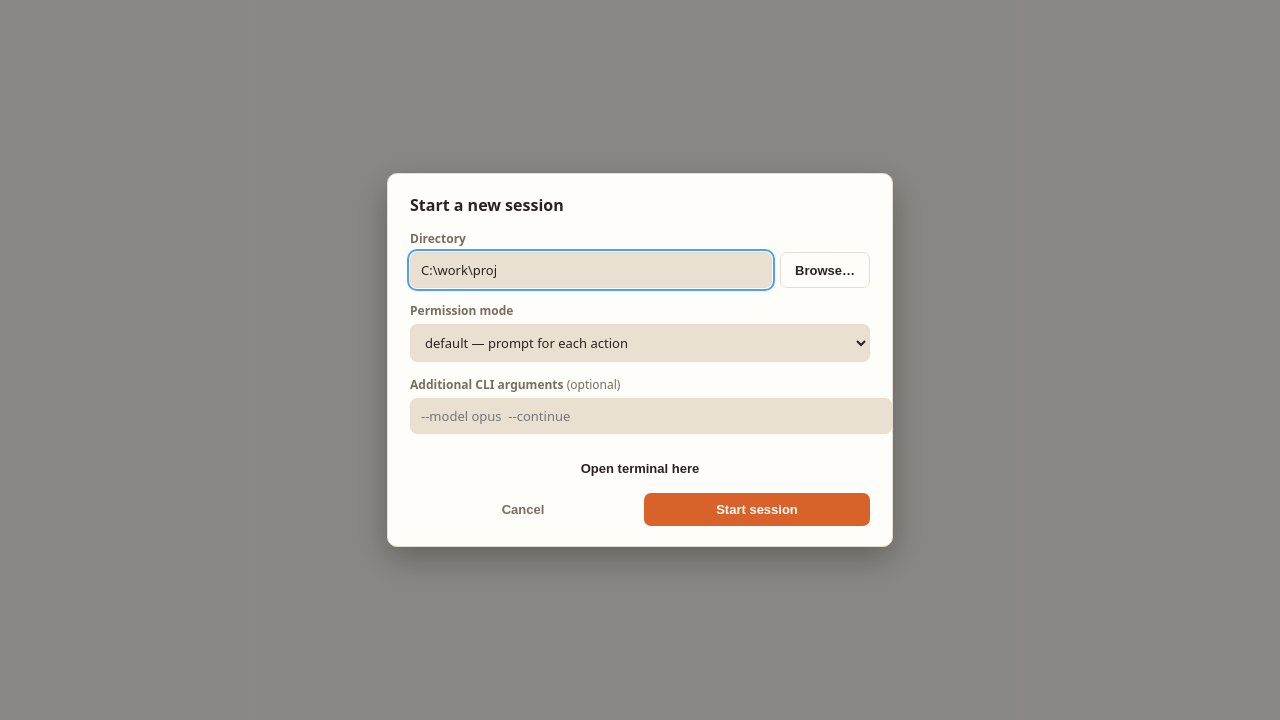
Test: NewSessionModal (#165) › shows the INVALID_ARGS detail inline and stays open
Step 1. Type "a&b" into the field labelled "Additional CLI arguments (optional)" → (651, 416), box top-left (410, 398), bottom-right (892, 434)
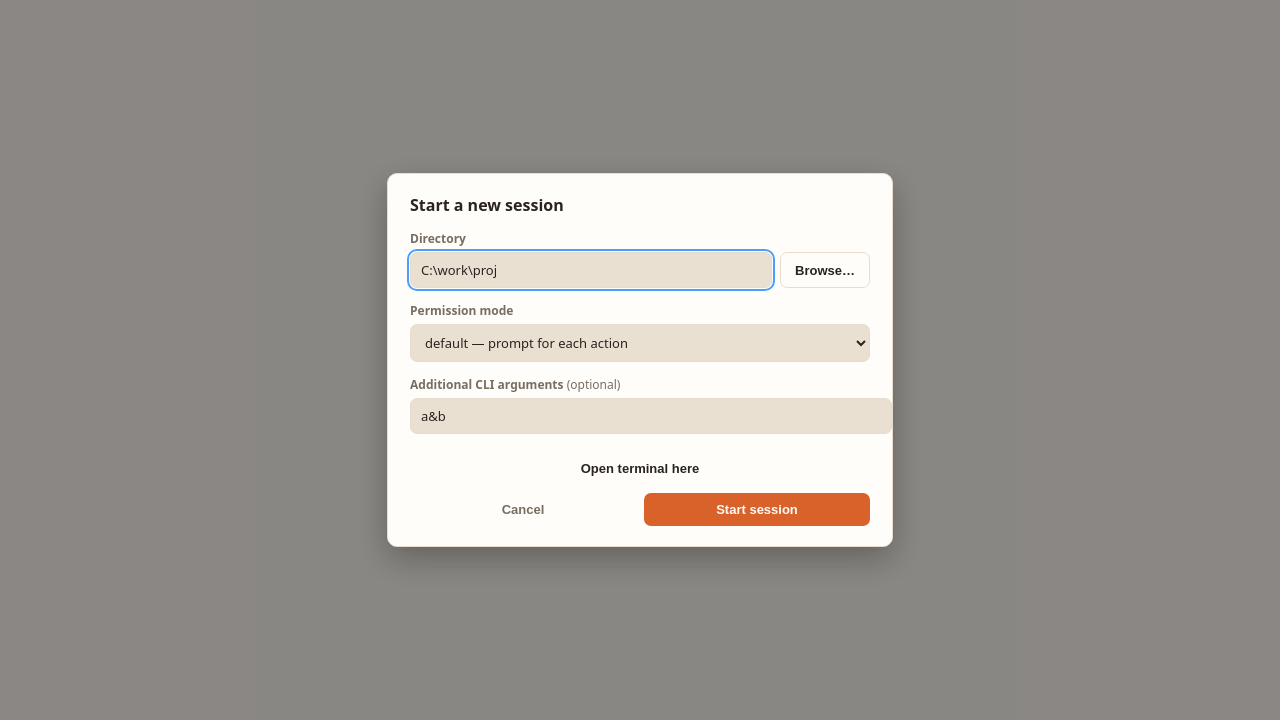
Step 2. Click the button with test id "new-session-launch" → (757, 510), box top-left (644, 493), bottom-right (870, 526)
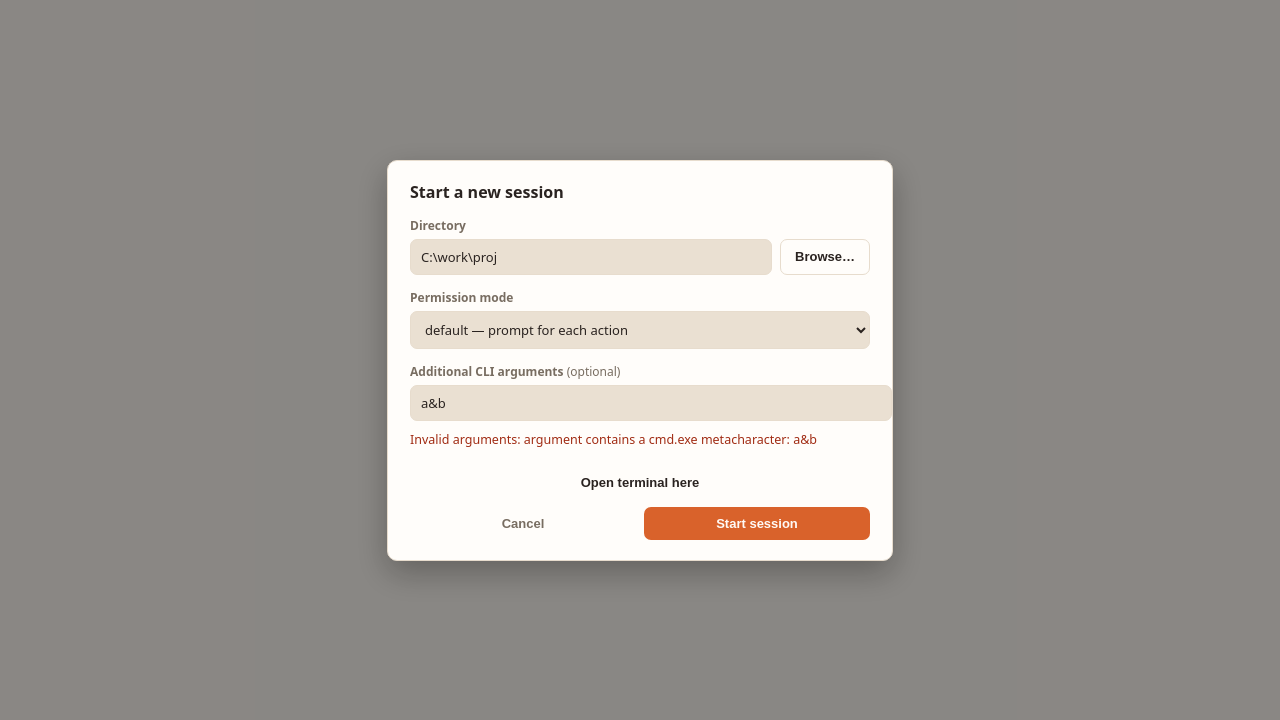
Expected: the message with test id "new-session-error" shows "a&b", top-left (410, 430), bottom-right (817, 448)
